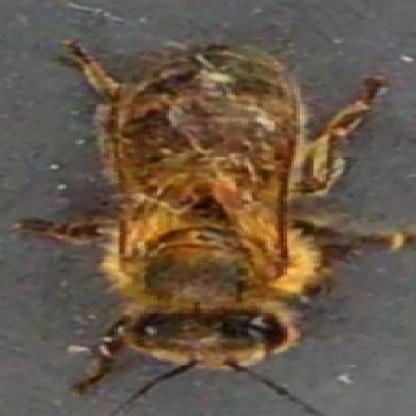bee: (89, 45, 303, 369)
